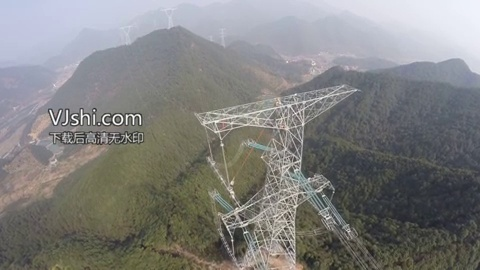tower_body: (182, 74, 368, 270)
tower_foot: (241, 233, 299, 268)
tower_head: (187, 78, 364, 135)
